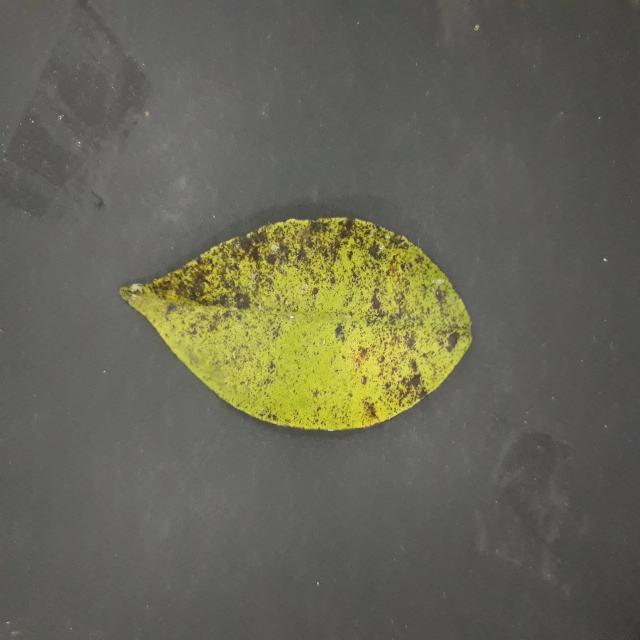greasy_spot: (121, 217, 471, 429)
